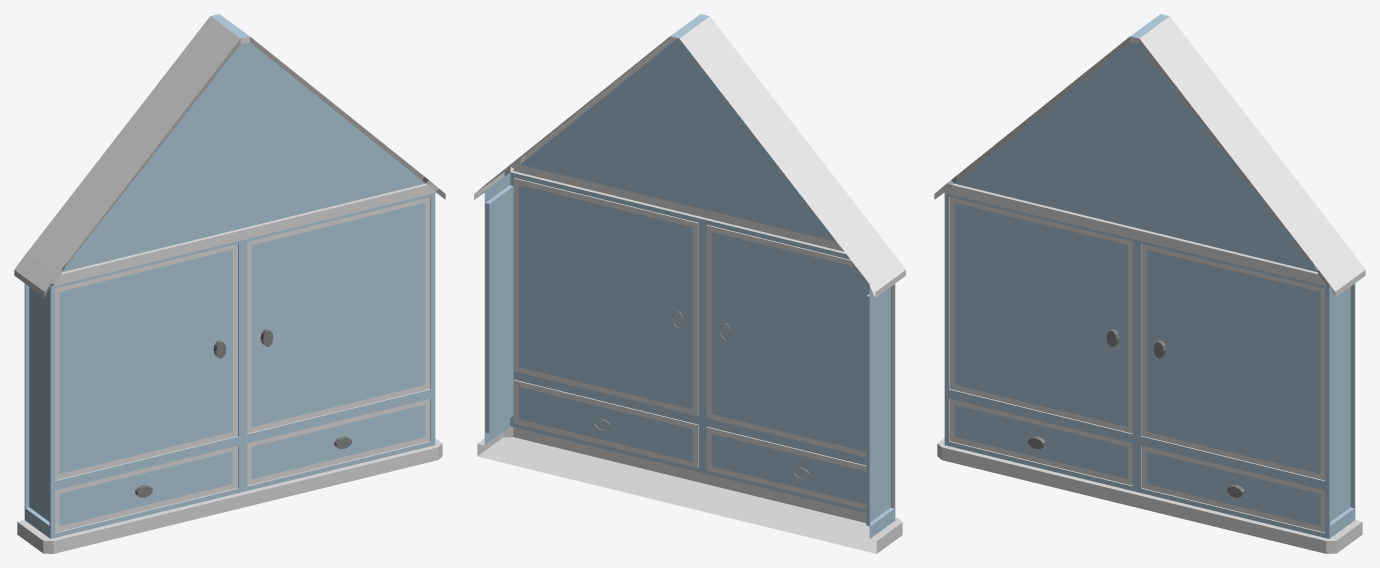
File: Bathroom_Cabinet.fbx
3 views of the same model, side by side, from view 1: azimuth 30°, elevation 25°; view 2: azimuth 150°, elevation 25°; view 3: azimuth 330°, elevation 25° (orthographic).
Parts seen in each view (by area): view 1: Bathroom_Cabinet; view 2: Bathroom_Cabinet; view 3: Bathroom_Cabinet.
Boxes of the visible parts, <box> form: Bathroom_Cabinet: <box>14,14,445,553</box>; Bathroom_Cabinet: <box>474,14,905,553</box>; Bathroom_Cabinet: <box>934,14,1365,553</box>.
Bounding box in the file's own units: 45.33 × 50.66 × 6.1.
